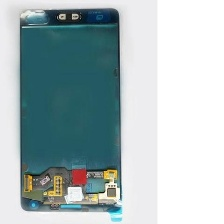phone: (11, 4, 123, 217)
